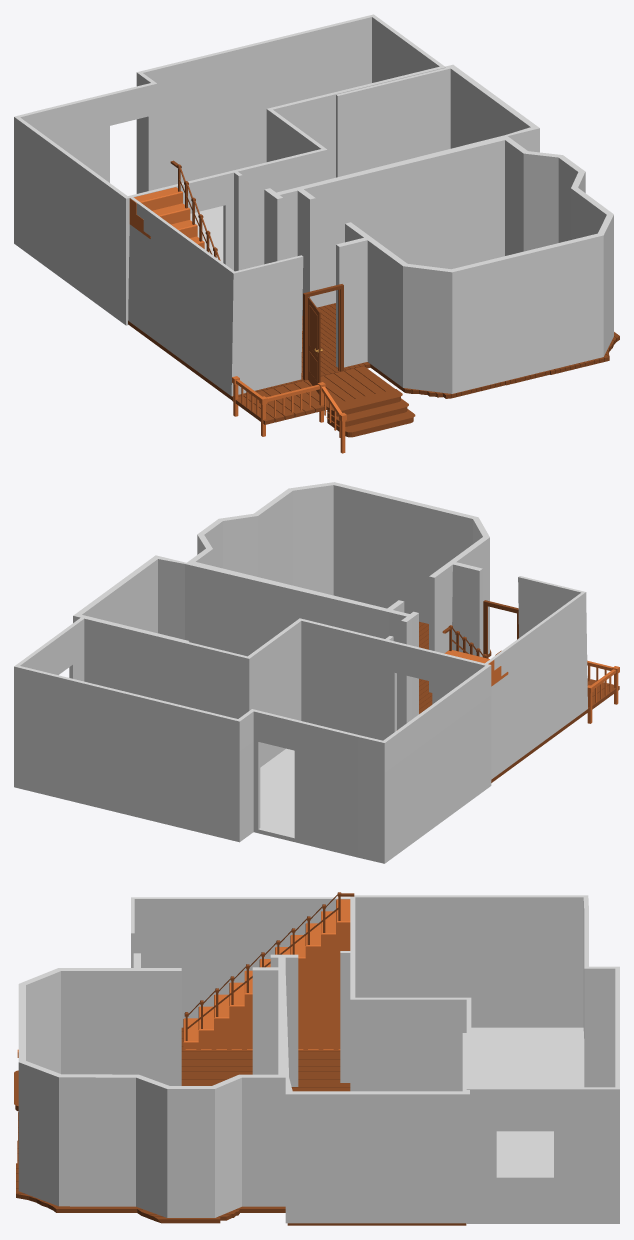
File: House4.fbx
3 renders of one model, top to bottom at view 1: azimuth 30°, elevation 25°; view 2: azimuth 150°, elevation 25°; view 3: azimuth 270°, elevation 25°, orthographic. The views are drawn at different scales.
Visible parts, largest first — view 1: Living room, Kitchen, Vert.003, Floor outer, Floor inner, Stairs.001, Cube.001, Kitchen.001, Cube, DoorFrame, Door, Cube.002; view 2: Kitchen, Living room, Vert.003, Kitchen.001, Floor inner, Cube; view 3: Living room, Kitchen, Vert.003, Kitchen.001, Cube.001, Floor inner, Cube.002.
Boxes of the visible parts, x1=… form: Living room: x1=264, y1=64, x2=613, y2=393; Kitchen: x1=14, y1=14, x2=445, y2=321; Vert.003: x1=128, y1=197, x2=303, y2=396; Floor outer: x1=232, y1=366, x2=394, y2=424; Floor inner: x1=128, y1=303, x2=619, y2=400; Stairs.001: x1=326, y1=389, x2=415, y2=437; Cube.001: x1=129, y1=187, x2=204, y2=248; Kitchen.001: x1=14, y1=206, x2=223, y2=325; Cube: x1=232, y1=376, x2=346, y2=453; DoorFrame: x1=303, y1=284, x2=343, y2=380; Door: x1=308, y1=297, x2=320, y2=394; Cube.002: x1=170, y1=160, x2=220, y2=260; Kitchen: x1=14, y1=616, x2=491, y2=859; Living room: x1=73, y1=482, x2=489, y2=729; Vert.003: x1=485, y1=576, x2=587, y2=779; Kitchen.001: x1=14, y1=748, x2=491, y2=863; Floor inner: x1=397, y1=621, x2=589, y2=782; Cube: x1=587, y1=660, x2=619, y2=723; Living room: x1=18, y1=953, x2=469, y2=1223; Kitchen: x1=340, y1=895, x2=619, y2=1219; Vert.003: x1=131, y1=897, x2=350, y2=1027; Kitchen.001: x1=466, y1=1027, x2=619, y2=1223; Cube.001: x1=183, y1=899, x2=350, y2=1051; Floor inner: x1=16, y1=1027, x2=466, y2=1225; Cube.002: x1=184, y1=892, x2=354, y2=1040.
Bounding box in the file's own units: 980 × 442 × 1265.
